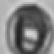correct: (4, 0, 52, 52)
